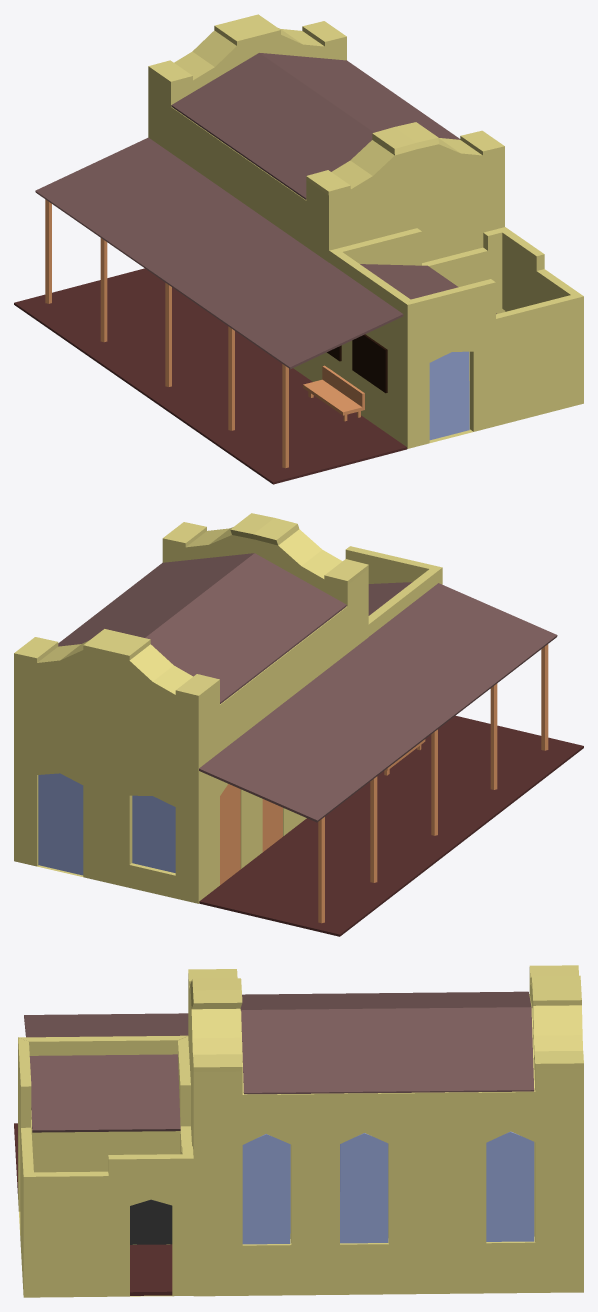
Rendered from trainEstacion.gltf.
3 views of the same model, one above another, from view 1: azimuth 30°, elevation 25°; view 2: azimuth 150°, elevation 25°; view 3: azimuth 270°, elevation 25° (orthographic). The views are drawn at different scales.
Parts seen in each view (by area): view 1: EstructuraEstacion, Techo 3, EstructuraEntrada, Piso, Techo, Puerta.001, Techo2, Banco, Pizarra2, Pilar4, Pilar5, Pilar2 (+2 smaller); view 2: EstructuraEstacion, Techo 3, Piso, Techo, Puerta, EstructuraEntrada, Ventana, Puerta2, Puerta3, Pilar4, Pilar1, Pilar2 (+3 smaller); view 3: EstructuraEstacion, EstructuraEntrada, Techo, Techo2, Ventana4, Ventana5, Ventana3, Techo 3, Piso1, Puerta.
Part boxes in pixels (box(x1,y1,x2,y2)): EstructuraEstacion: box(148, 14, 504, 381); Techo 3: box(35, 137, 403, 369); EstructuraEntrada: box(329, 227, 583, 448); Piso: box(14, 268, 406, 484); Techo: box(171, 53, 460, 199); Puerta.001: box(429, 351, 469, 440); Techo2: box(360, 264, 496, 313); Banco: box(303, 365, 364, 421); Pizarra2: box(352, 334, 387, 393); Pilar4: box(100, 238, 107, 342); Pilar5: box(45, 199, 51, 303); Pilar2: box(228, 326, 234, 430); EstructuraEstacion: box(14, 513, 368, 903); Techo 3: box(199, 583, 557, 822); Piso: box(199, 715, 583, 936); Techo: box(58, 553, 346, 703); Puerta: box(38, 773, 83, 875); EstructuraEntrada: box(345, 546, 442, 636); Ventana: box(132, 795, 175, 872); Puerta2: box(220, 784, 240, 884); Puerta3: box(262, 799, 282, 851); Pilar4: box(370, 776, 377, 882); Pilar1: box(541, 644, 548, 750); Pilar2: box(490, 683, 497, 789); EstructuraEstacion: box(188, 965, 583, 1296); EstructuraEntrada: box(18, 1035, 193, 1297); Techo: box(240, 991, 534, 1094); Techo2: box(29, 1054, 180, 1132); Ventana4: box(340, 1133, 388, 1243); Ventana5: box(242, 1134, 290, 1244); Ventana3: box(486, 1131, 534, 1241); Techo 3: box(24, 1013, 188, 1037); Piso1: box(130, 1244, 172, 1295); Puerta: box(130, 1199, 172, 1244).
Size of the model in its own units: 6.16 by 4.15 by 8.31.
